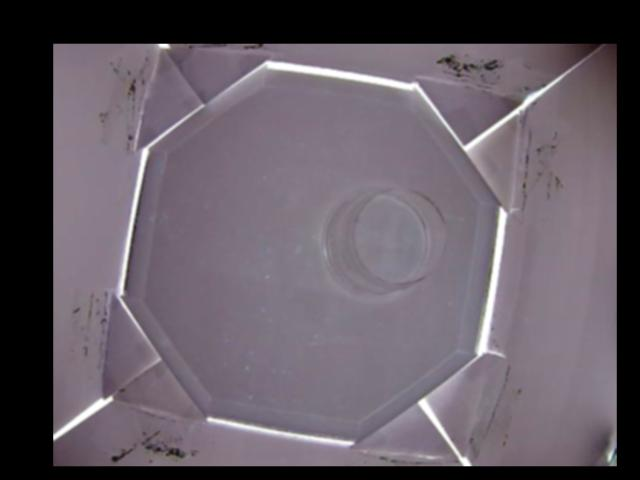Cup: (319, 186, 447, 297)
